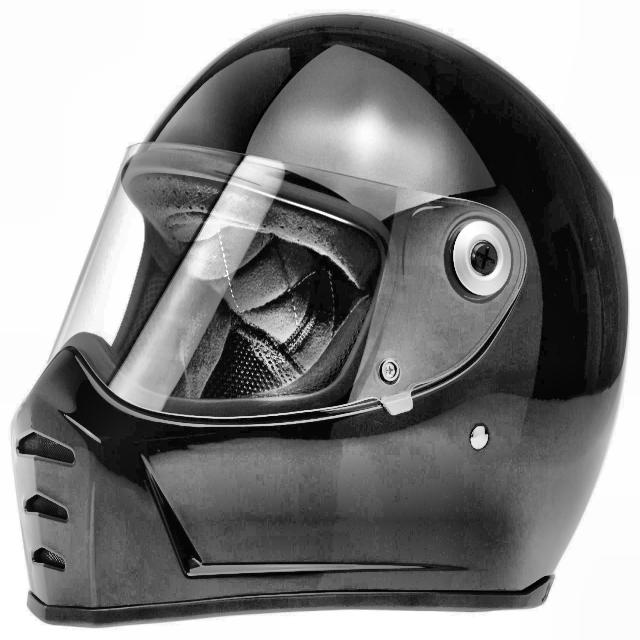Helmet: (9, 7, 630, 640)
